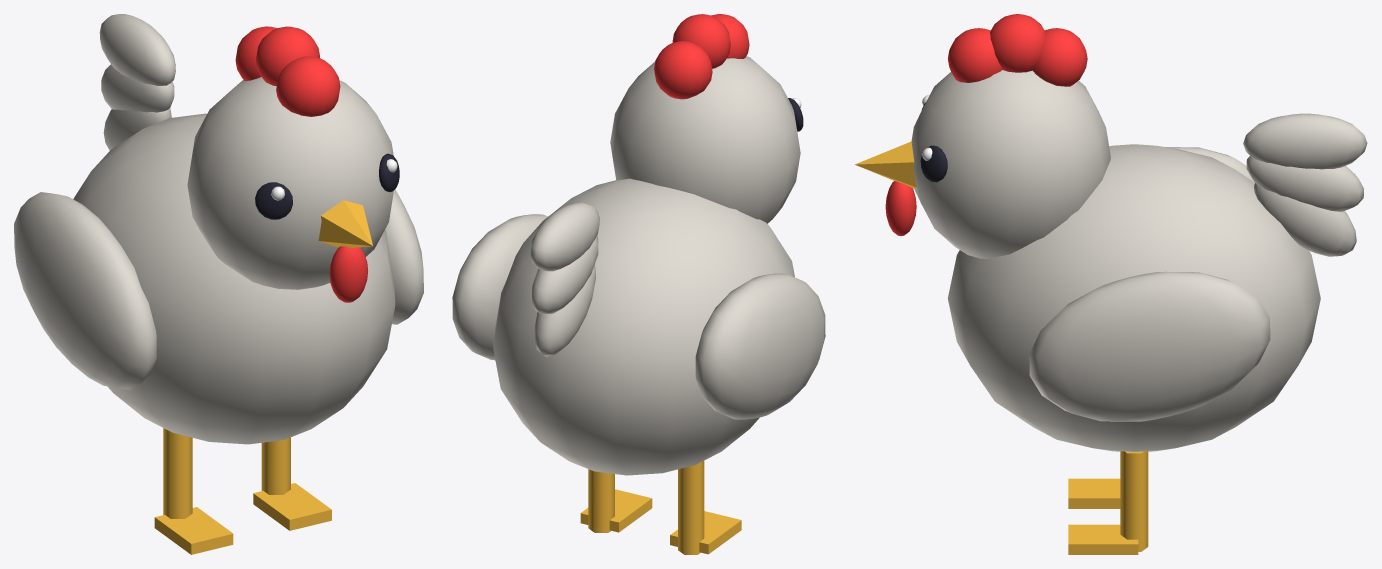
Rendered from animal_chicken.glb.
3 views of the same model, side by side, from view 1: azimuth 30°, elevation 25°; view 2: azimuth 150°, elevation 25°; view 3: azimuth 270°, elevation 25° (orthographic). The views are drawn at different scales.
Parts seen in each view (by area): view 1: body; view 2: body; view 3: body.
Part boxes in pixels (x1=…): body: x1=14, y1=14, x2=423, y2=554; body: x1=452, y1=14, x2=825, y2=554; body: x1=855, y1=14, x2=1367, y2=554.
Bounding box in the file's own units: 0.48 × 0.72 × 0.66.
